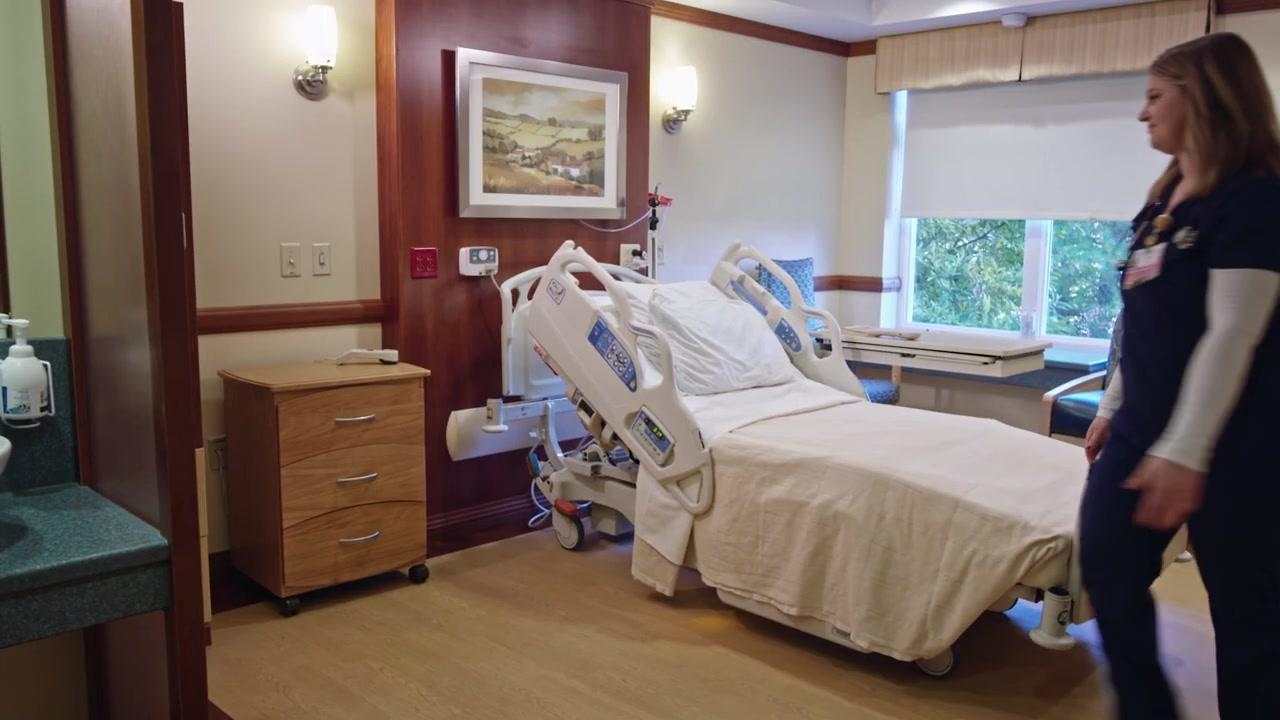bedrail: (523, 239, 713, 521), (710, 238, 869, 400)
bedside_table: (222, 350, 433, 610)
chair: (757, 259, 899, 404), (1043, 363, 1108, 457)
countertop: (1, 480, 166, 567)
dispenser: (1, 314, 58, 425)
handle: (337, 471, 376, 487), (341, 529, 382, 544), (336, 413, 381, 425)
hospital_bed: (501, 237, 1187, 676)
iv_pole: (644, 182, 675, 282)
light_switch: (281, 242, 302, 276), (313, 243, 330, 275)
overbed_table: (809, 322, 1056, 378)
sink: (1, 433, 14, 476)
staff: (1076, 32, 1280, 720)
